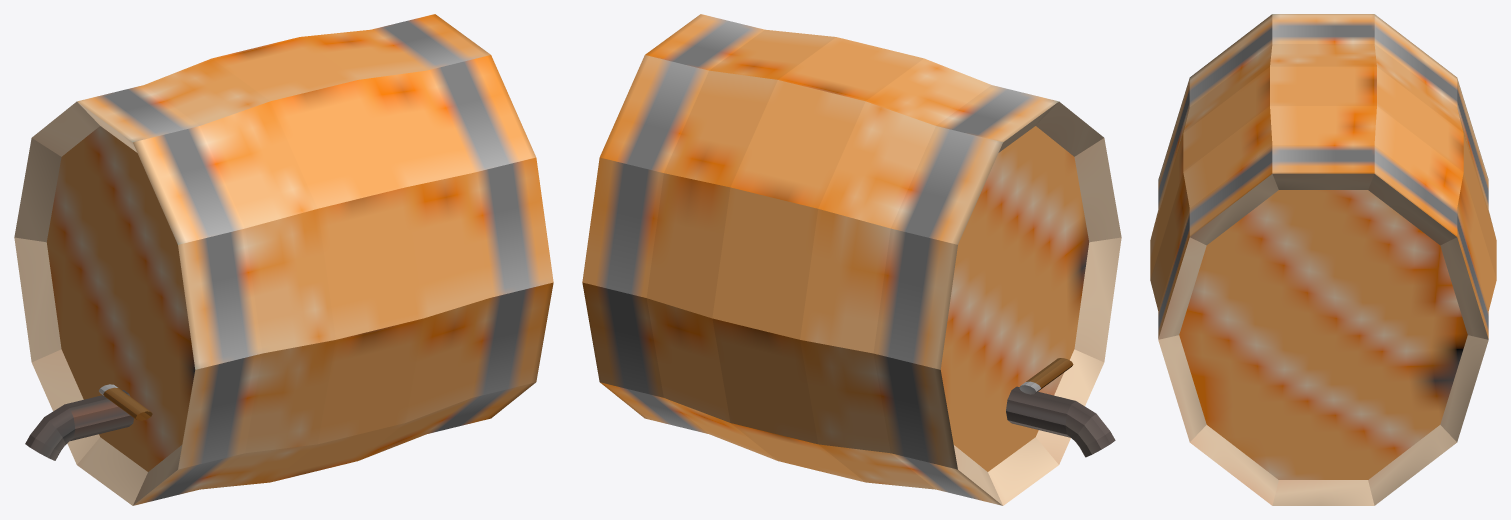
File: keg_434x00.obj
The picture shows the model from 3 angles, left to right: view 1: azimuth 30°, elevation 25°; view 2: azimuth 150°, elevation 25°; view 3: azimuth 270°, elevation 25°; orthographic projection. The views are drawn at different scales.
Visible parts, largest first — view 1: Keg_434x0; view 2: Keg_434x0; view 3: Keg_434x0.
Part boxes in pixels (x1,y1,x2,y2): Keg_434x0: (14, 14, 553, 505); Keg_434x0: (582, 14, 1121, 505); Keg_434x0: (1150, 14, 1496, 505).
Size of the model in its own units: 4 by 3.33 by 3.
